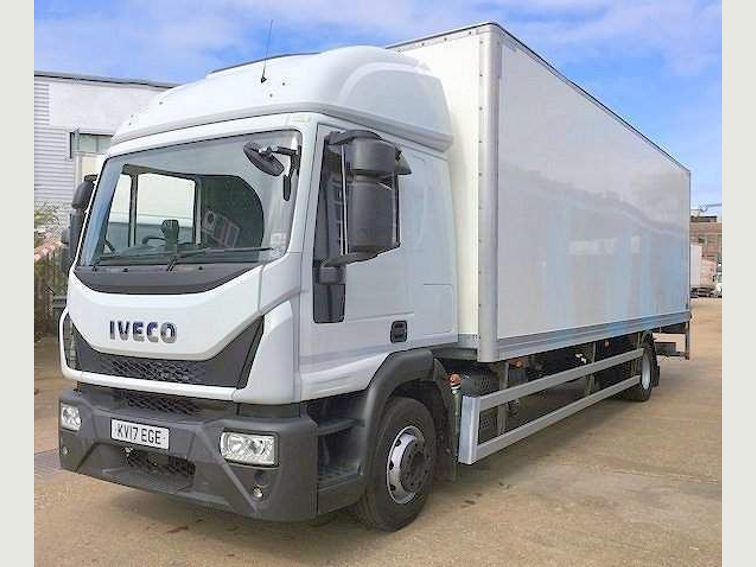Semi: (58, 20, 691, 533)
